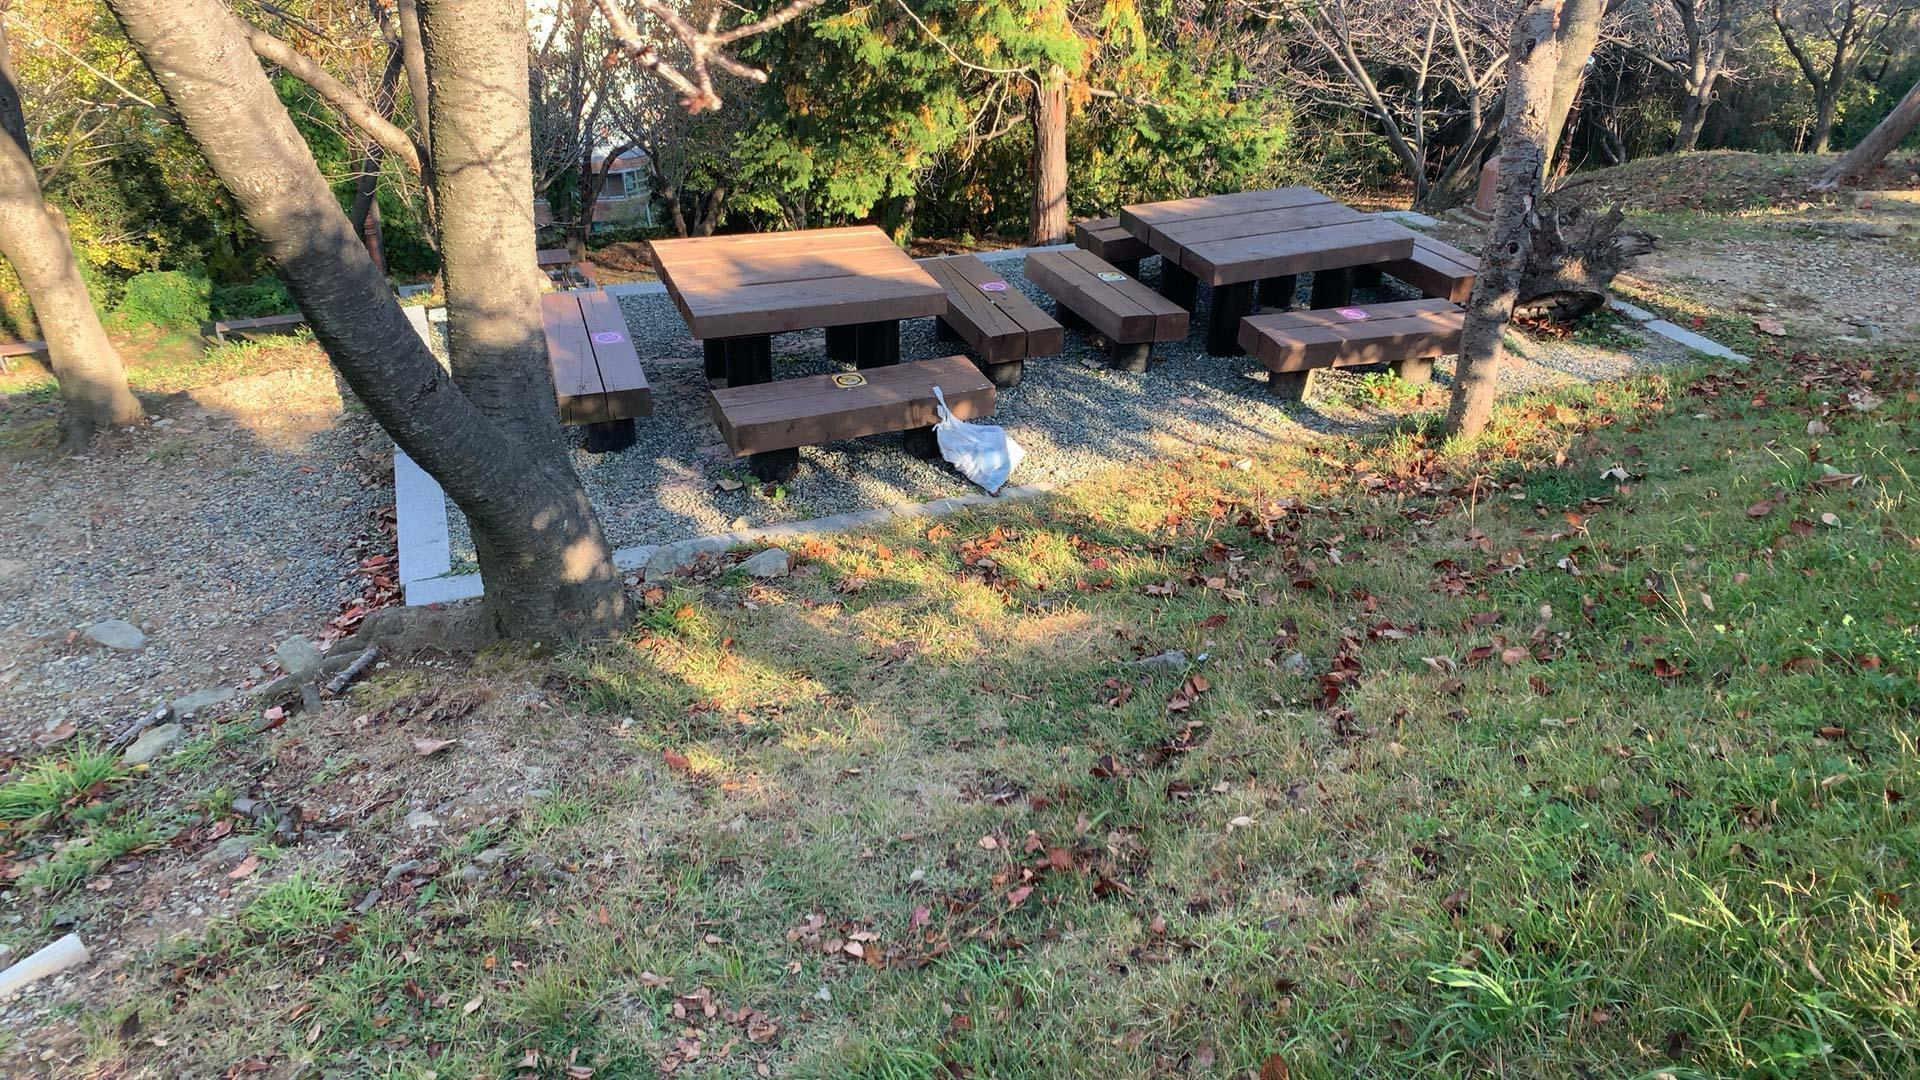white_bag: (924, 378, 1034, 498)
